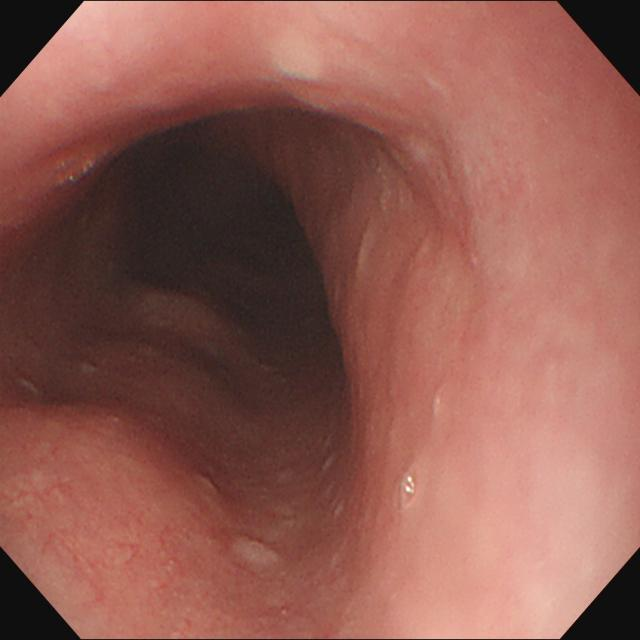E: (119, 122, 322, 335)
T: (397, 462, 424, 510)
